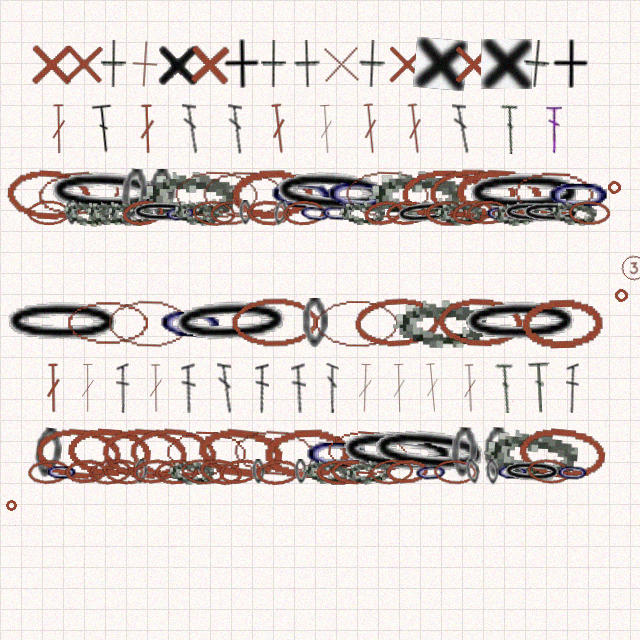chain: (365, 422, 494, 483), (334, 424, 462, 482), (268, 165, 395, 222), (43, 166, 170, 221), (168, 295, 294, 350), (458, 297, 583, 348), (462, 169, 587, 219), (0, 298, 125, 348), (483, 425, 579, 481), (516, 424, 607, 481), (195, 424, 284, 482), (33, 165, 123, 222), (128, 425, 219, 481), (323, 425, 412, 481), (34, 425, 122, 481), (100, 425, 188, 481), (230, 425, 318, 481), (353, 295, 442, 350), (65, 425, 154, 480), (454, 166, 542, 221), (369, 168, 462, 219), (393, 297, 486, 348), (143, 169, 236, 219), (5, 167, 91, 221), (172, 168, 261, 220), (343, 168, 432, 220), (436, 296, 523, 349), (105, 297, 193, 349), (510, 167, 596, 220), (163, 427, 250, 479), (263, 427, 350, 479), (200, 168, 286, 220), (231, 297, 318, 348), (520, 297, 605, 349), (313, 298, 401, 348), (429, 168, 515, 219), (401, 169, 488, 219), (230, 168, 315, 219), (64, 298, 150, 348), (266, 167, 338, 220), (322, 167, 394, 220), (155, 296, 227, 349), (544, 169, 614, 219), (302, 428, 372, 478), (393, 198, 457, 228), (32, 427, 64, 479), (119, 168, 150, 220), (501, 200, 563, 226), (520, 200, 582, 226), (501, 459, 563, 485), (197, 455, 244, 488), (130, 200, 192, 225), (344, 456, 392, 487), (62, 198, 110, 228), (492, 198, 540, 228), (450, 427, 478, 478), (483, 427, 511, 478), (101, 456, 147, 487), (217, 456, 263, 487), (362, 197, 406, 229), (120, 197, 165, 228), (450, 197, 495, 228), (172, 198, 220, 227), (302, 457, 350, 486), (148, 169, 175, 219), (88, 457, 133, 486), (131, 457, 176, 486), (180, 457, 225, 486), (369, 457, 414, 486), (526, 457, 571, 486), (302, 298, 328, 348), (550, 199, 597, 226), (191, 199, 236, 227), (255, 458, 300, 486), (385, 199, 429, 227), (27, 458, 70, 486), (107, 200, 153, 226), (436, 200, 482, 226), (168, 459, 214, 485), (246, 199, 290, 226), (154, 458, 198, 485), (282, 199, 325, 226), (466, 199, 509, 226), (64, 458, 107, 485), (330, 458, 373, 485), (385, 458, 428, 485), (86, 200, 132, 225), (339, 200, 385, 225), (433, 459, 477, 485), (210, 200, 253, 226), (425, 200, 468, 226), (568, 200, 611, 226), (316, 459, 359, 485), (27, 200, 70, 225), (162, 199, 199, 227), (297, 199, 334, 227), (319, 199, 355, 226), (413, 459, 449, 485), (484, 200, 519, 226), (555, 459, 590, 485), (44, 459, 79, 484), (495, 459, 530, 484), (464, 458, 482, 485), (272, 200, 289, 226), (485, 459, 500, 485), (64, 200, 79, 225), (134, 459, 148, 484), (294, 459, 308, 484), (239, 200, 252, 225), (252, 459, 265, 484)
double: (91, 103, 117, 154), (528, 362, 552, 413), (404, 103, 426, 154), (268, 103, 289, 154), (360, 103, 381, 154), (422, 362, 443, 413), (316, 104, 336, 154), (452, 103, 471, 154), (495, 363, 514, 413), (182, 103, 200, 154), (138, 104, 156, 154), (500, 104, 518, 154), (356, 363, 374, 413), (390, 363, 408, 413), (461, 363, 479, 413), (50, 104, 67, 154), (79, 363, 96, 413), (147, 363, 164, 413), (217, 363, 234, 413), (228, 104, 244, 154), (546, 104, 562, 154), (45, 363, 61, 413), (291, 363, 307, 413), (181, 363, 196, 413), (116, 363, 130, 413), (255, 363, 269, 413), (325, 363, 339, 413), (566, 363, 579, 413)
noise: (619, 253, 640, 282), (613, 287, 630, 304), (607, 180, 622, 195), (4, 498, 18, 512)
single: (413, 37, 468, 91), (119, 38, 171, 90), (183, 38, 235, 90), (58, 38, 109, 89), (315, 38, 366, 89), (481, 39, 532, 89), (26, 39, 76, 89), (382, 39, 432, 89), (448, 39, 498, 89), (155, 39, 201, 89), (222, 39, 260, 89), (551, 39, 589, 89), (522, 38, 552, 90), (294, 39, 321, 89), (359, 39, 386, 89), (101, 39, 127, 89), (261, 39, 287, 89)
